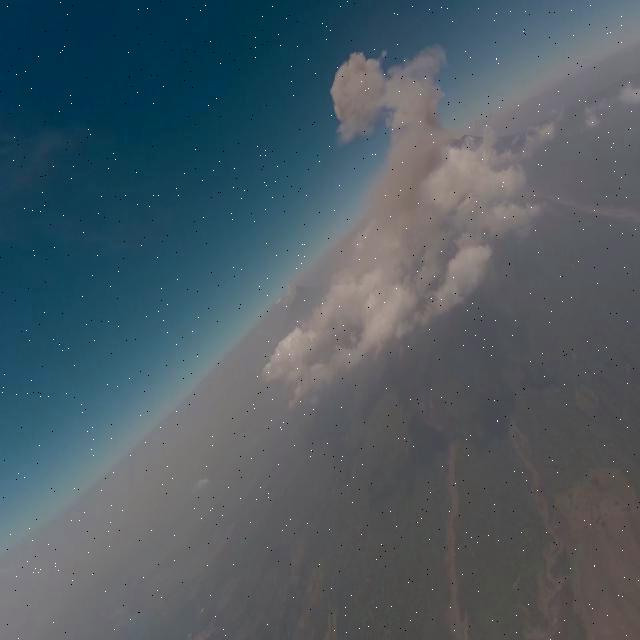Plume: (326, 38, 450, 235)
